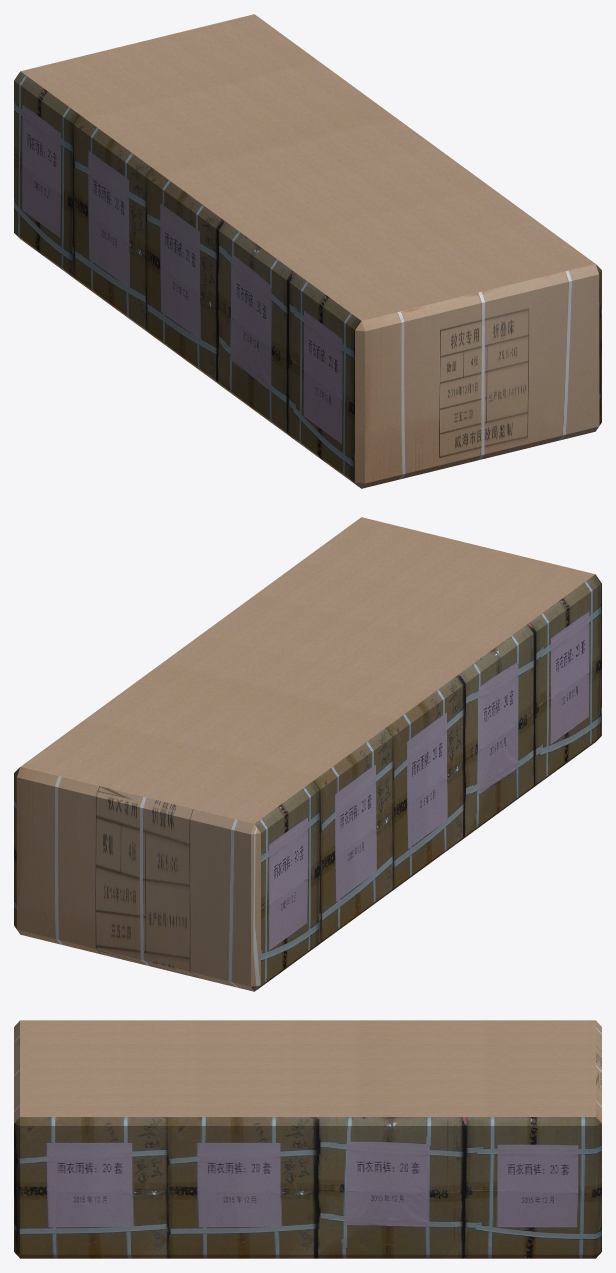
The model's file is yuyiku.FBX.
3 renders of one model, top to bottom at view 1: azimuth 30°, elevation 25°; view 2: azimuth 150°, elevation 25°; view 3: azimuth 270°, elevation 25°, orthographic. The views are drawn at different scales.
Visible parts, largest first — view 1: 对象117; view 2: 对象117; view 3: 对象117.
Part boxes in pixels (left/top/right/bottom): 对象117: left=14, top=14, right=601, bottom=488; 对象117: left=14, top=517, right=601, bottom=991; 对象117: left=14, top=1020, right=601, bottom=1258.
Bounding box in the file's own units: 0.7354 × 1.8 × 0.4779.
